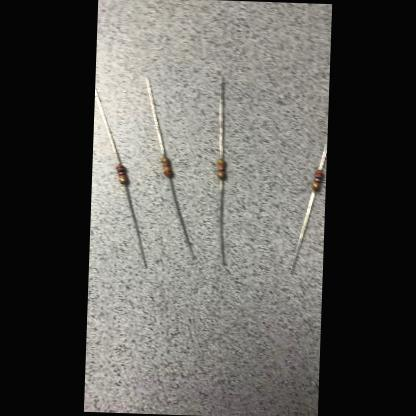resistor: (162, 158, 174, 177), (312, 170, 322, 192), (116, 165, 128, 183), (218, 159, 226, 178)
wire: (164, 177, 197, 259), (92, 86, 124, 164), (120, 184, 149, 269), (290, 191, 316, 274), (143, 77, 169, 157), (217, 179, 228, 264), (216, 76, 226, 158), (318, 139, 328, 169)
